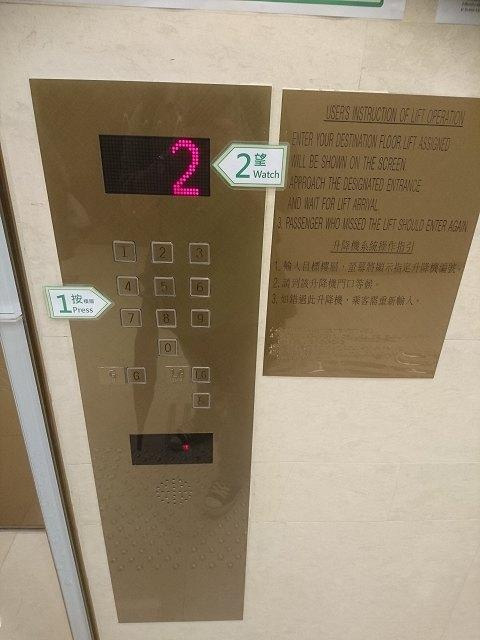0: (156, 335, 179, 358)
1: (111, 238, 139, 264)
2: (149, 239, 175, 265)
3: (186, 240, 212, 266)
4: (114, 272, 141, 298)
5: (151, 274, 178, 298)
6: (187, 274, 213, 299)
7: (118, 306, 144, 329)
8: (154, 307, 179, 329)
9: (188, 307, 214, 329)
G: (94, 364, 127, 387), (125, 365, 148, 385)
LG: (162, 364, 192, 386), (191, 365, 212, 383)
blur: (190, 390, 212, 411)
led: (94, 131, 214, 200), (128, 431, 215, 466)
